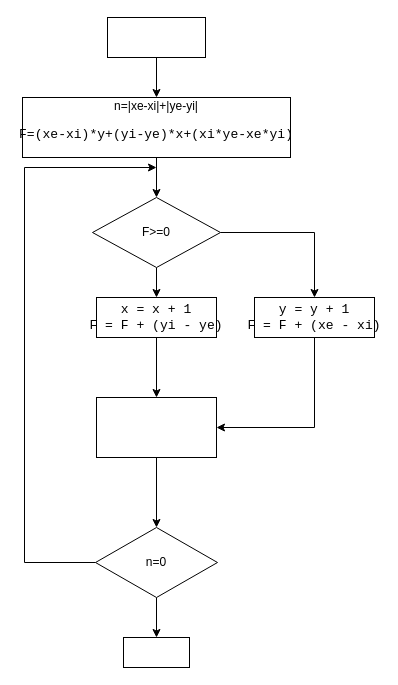
This 398x685 diagram has some shape labels left out. The shapes that lost their labels are listed below. From the top down, each one's box as (x1, y1, x2, y2) in pixels, then its label:
(106, 16, 206, 58): enter xi,yi,xe,ye
(96, 396, 216, 458): n-1
(122, 636, 190, 668): end
